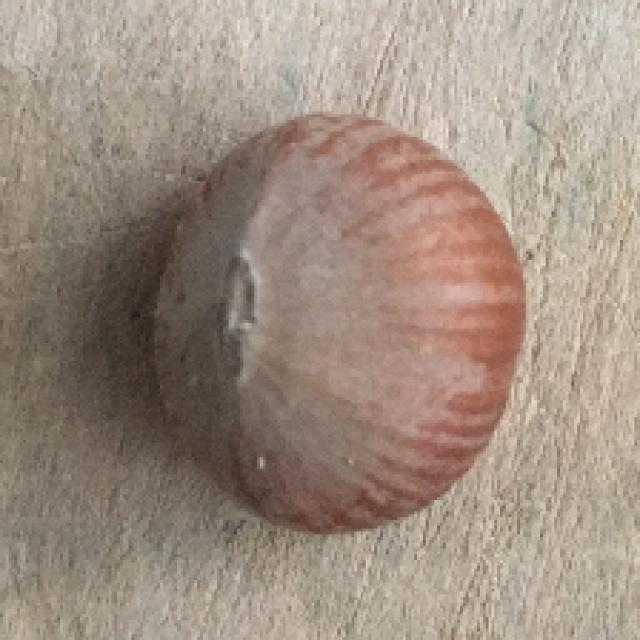qualityHazelnut: (159, 113, 528, 534)
